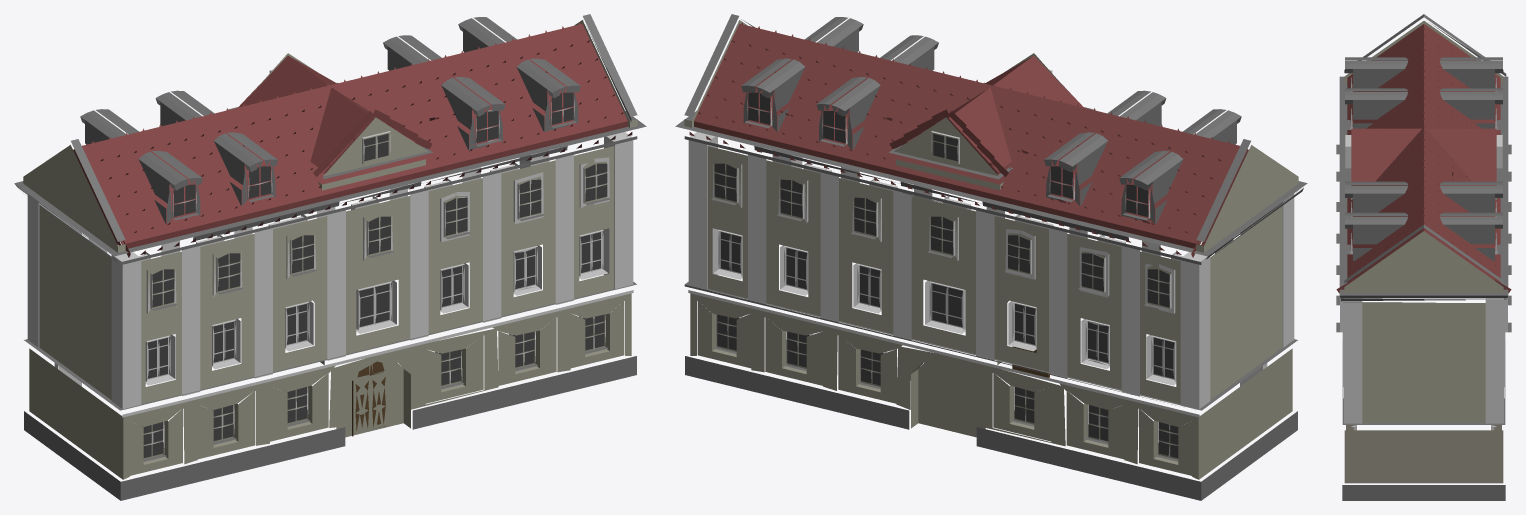
File: eu_town_b.glb
The picture shows the model from 3 angles, left to right: view 1: azimuth 30°, elevation 25°; view 2: azimuth 150°, elevation 25°; view 3: azimuth 270°, elevation 25°; orthographic projection. The views are drawn at different scales.
Visible parts, largest first — view 1: Building1_Large; view 2: Building1_Large; view 3: Building1_Large.
Part boxes in pixels (x1=…): Building1_Large: x1=14, y1=14, x2=646, y2=500; Building1_Large: x1=675, y1=14, x2=1307, y2=500; Building1_Large: x1=1336, y1=14, x2=1511, y2=500.
Bounding box in the file's own units: 7.99 × 4.66 × 2.71.
